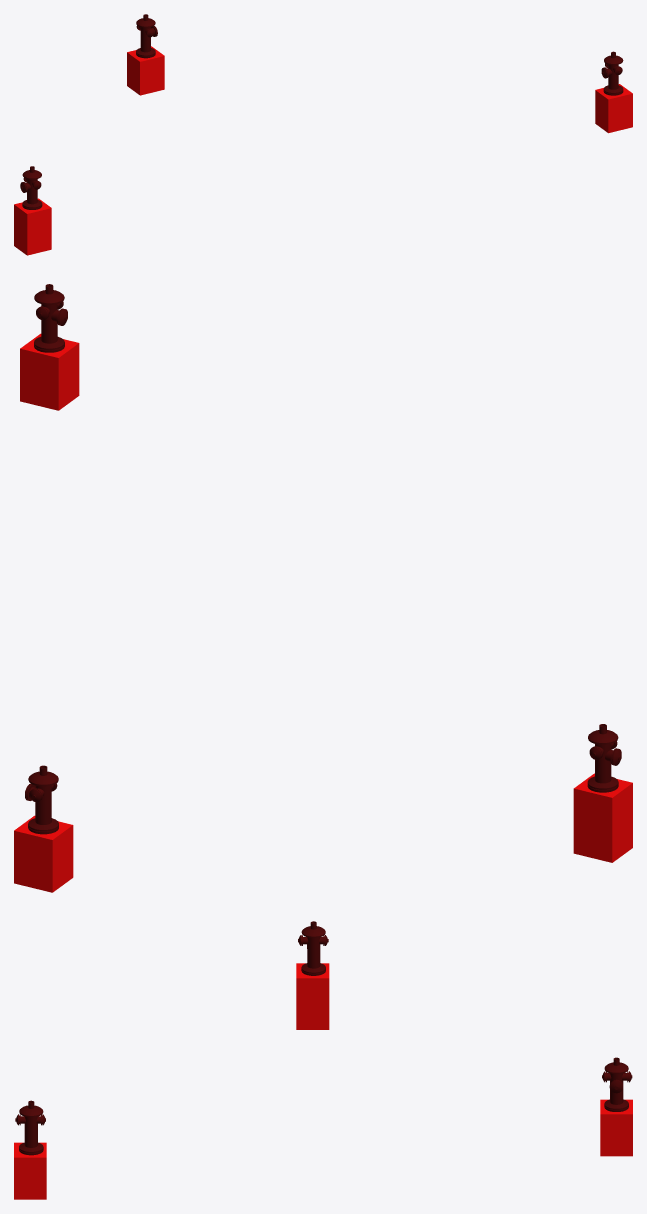
The model's file is 消防栓.fbx.
3 renders of one model, top to bottom at view 1: azimuth 30°, elevation 25°; view 2: azimuth 150°, elevation 25°; view 3: azimuth 270°, elevation 25°, orthographic. The views are drawn at different scales.
Parts seen in each view (by area): view 1: 消防栓底板, 消防栓3, 消防栓2, 消防栓1; view 2: 消防栓底板, 消防栓2, 消防栓3, 消防栓1; view 3: 消防栓底板, 消防栓3, 消防栓1, 消防栓2.
Boxes of the visible parts, x1=… form: 消防栓底板: x1=14, y1=46, x2=632, y2=255; 消防栓3: x1=601, y1=51, x2=623, y2=95; 消防栓2: x1=20, y1=166, x2=42, y2=209; 消防栓1: x1=136, y1=14, x2=157, y2=58; 消防栓底板: x1=14, y1=333, x2=632, y2=892; 消防栓2: x1=587, y1=724, x2=621, y2=792; 消防栓3: x1=34, y1=284, x2=67, y2=352; 消防栓1: x1=25, y1=765, x2=58, y2=834; 消防栓底板: x1=14, y1=963, x2=632, y2=1199; 消防栓3: x1=15, y1=1100, x2=45, y2=1155; 消防栓1: x1=602, y1=1057, x2=632, y2=1111; 消防栓2: x1=298, y1=921, x2=328, y2=975.
Size of the model in its own units: 2.15 by 0.6843 by 1.89.
